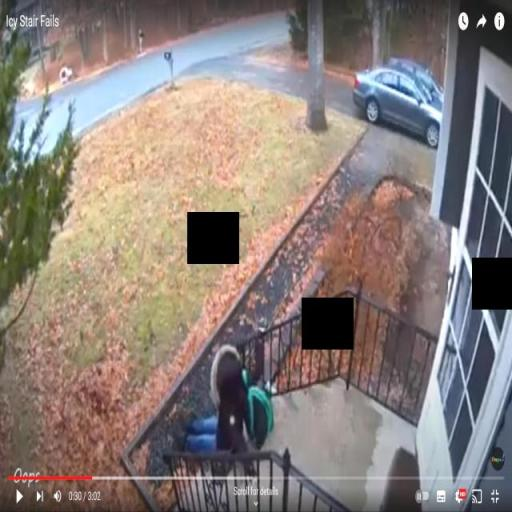Fall: (168, 338, 263, 477)
